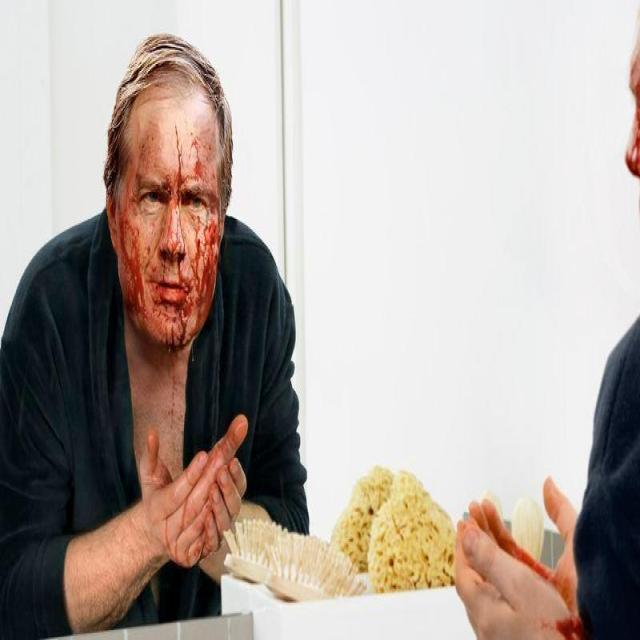flood: (118, 210, 222, 354)
